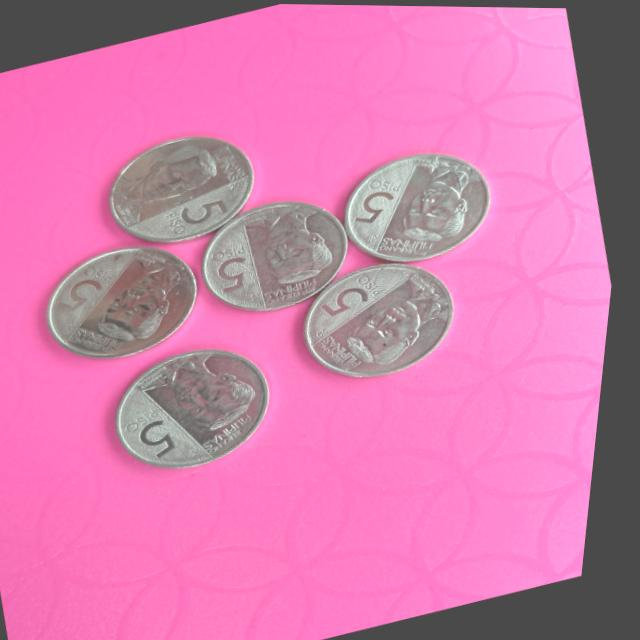5_New_Front: (114, 393, 205, 475), (53, 257, 133, 325), (309, 264, 391, 323), (200, 233, 267, 303), (343, 169, 414, 232), (159, 189, 241, 241)
